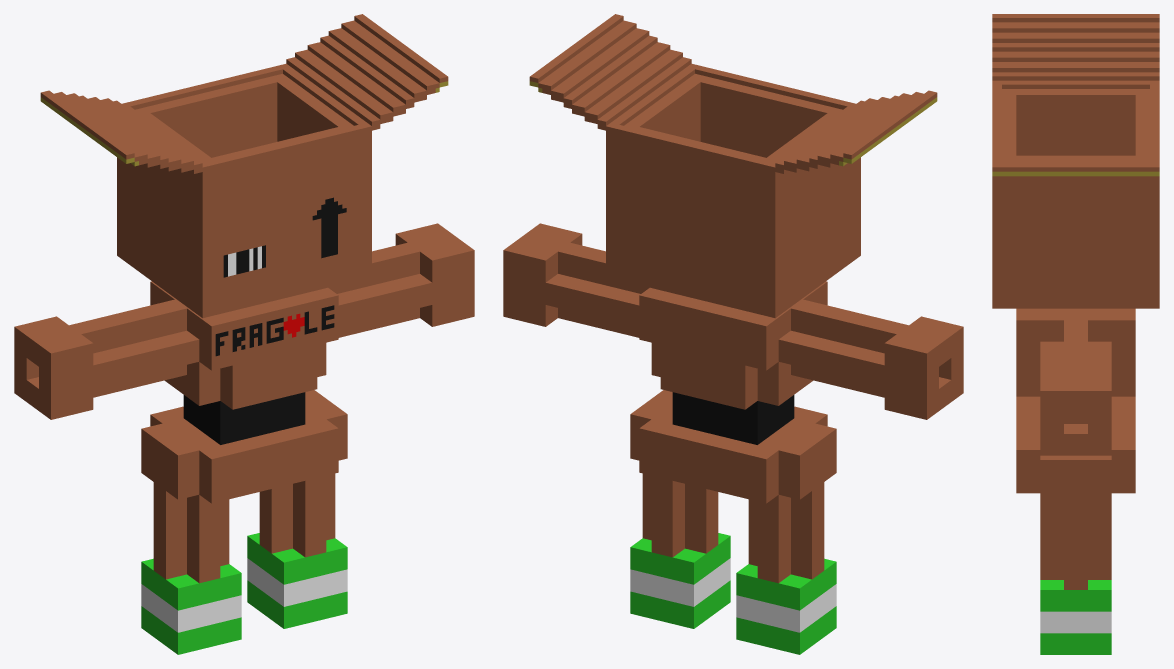
The model's file is box man final.obj.
The picture shows the model from 3 angles, left to right: view 1: azimuth 30°, elevation 25°; view 2: azimuth 150°, elevation 25°; view 3: azimuth 270°, elevation 25°; orthographic projection. The views are drawn at different scales.
Bounding box in the file's own units: 10 × 12.1 × 3.5.
1 material, 1 textured.
